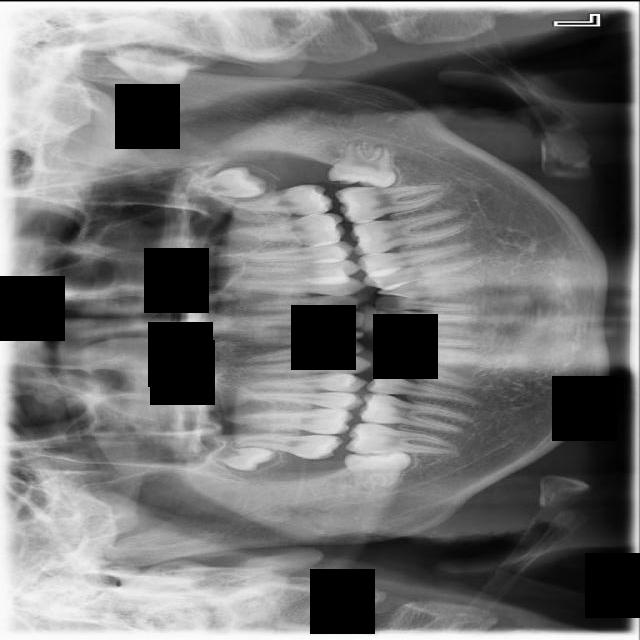3M ESPE Implant: (213, 446, 276, 470)
73: (604, 14, 615, 24)
BioHorizons Implant: (215, 183, 334, 216)
BioLife Implant: (191, 164, 268, 198)
Biomet 3i Implant: (326, 134, 403, 194)
Blue Sky Bio Implant: (335, 183, 444, 223)
Caries: (219, 431, 344, 460)
Implant: (345, 422, 455, 453)
Keystone Dental Implant: (344, 448, 412, 491)
